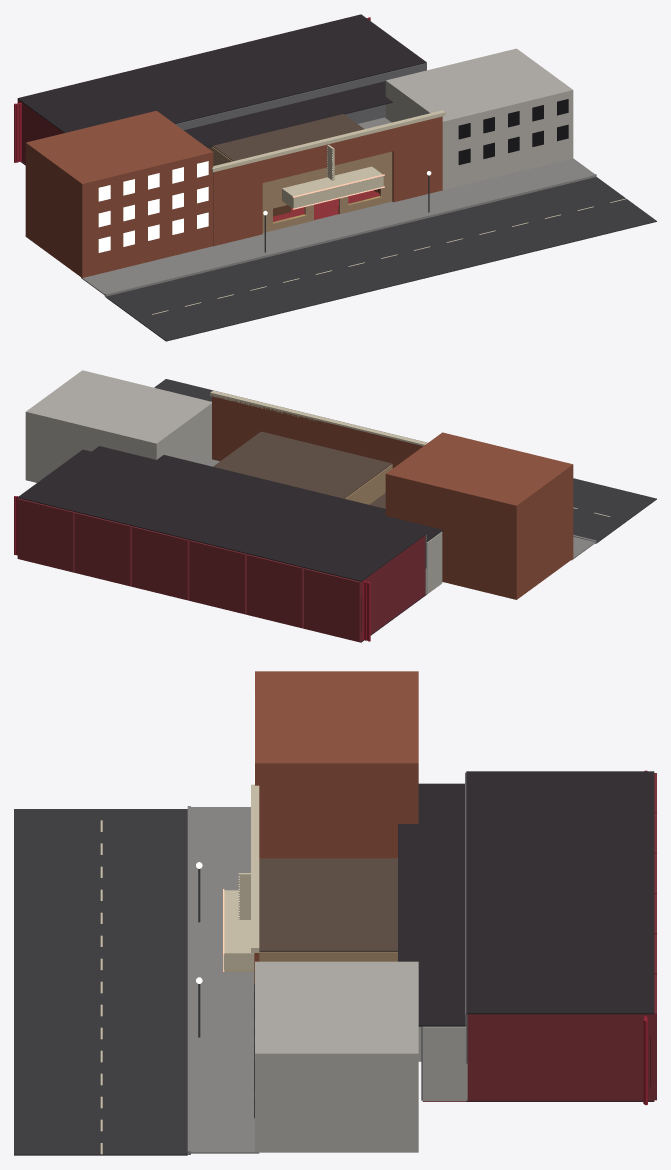
Rendered from shell.glb.
3 views of the same model, one above another, from view 1: azimuth 30°, elevation 25°; view 2: azimuth 150°, elevation 25°; view 3: azimuth 270°, elevation 25° (orthographic). The views are drawn at different scales.
Visible parts, largest first — view 1: shell_main, aud_1, aud_6, aud_4, aud_3, aud_5, aud_2; view 2: shell_main, aud_1, aud_6, aud_2, aud_4, aud_5, aud_3; view 3: shell_main, aud_6, aud_1, aud_4, aud_2, aud_3, aud_5.
Boxes of the visible parts, x1,y1,x2,y2 form: shell_main: (25, 48, 656, 341); aud_1: (14, 84, 121, 165); aud_6: (304, 14, 426, 76); aud_4: (189, 42, 311, 104); aud_3: (132, 56, 254, 118); aud_5: (247, 28, 369, 90); aud_2: (75, 70, 197, 124); shell_main: (25, 370, 656, 599); aud_1: (304, 519, 426, 642); aud_6: (14, 449, 139, 572); aud_2: (246, 505, 368, 628); aud_4: (132, 477, 254, 600); aud_5: (74, 463, 196, 586); aud_3: (189, 491, 311, 614); shell_main: (14, 671, 467, 1155); aud_6: (466, 972, 656, 1105); aud_1: (466, 770, 656, 813); aud_4: (466, 892, 656, 934); aud_2: (466, 811, 656, 853); aud_3: (466, 852, 656, 893); aud_5: (466, 932, 656, 974).
Bounding box in the file's own units: 60 × 11.25 × 47.2.
